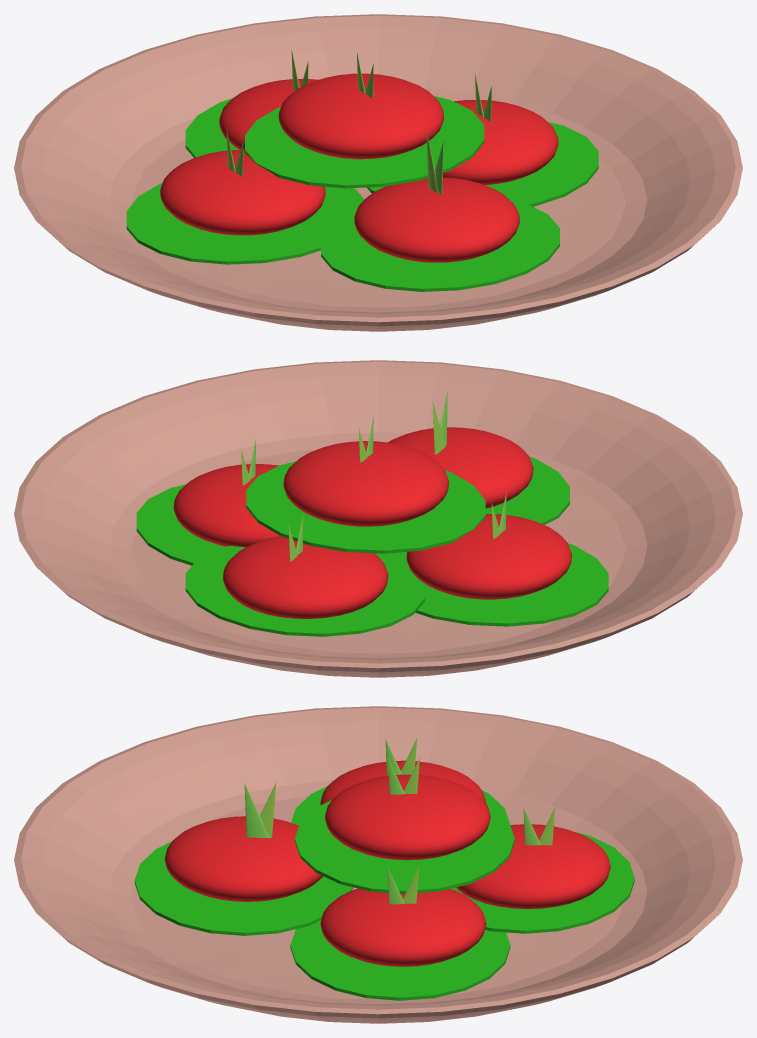
The model's file is kue kura kura.fbx.
3 renders of one model, top to bottom at view 1: azimuth 30°, elevation 25°; view 2: azimuth 150°, elevation 25°; view 3: azimuth 270°, elevation 25°, orthographic.
Parts seen in each view (by area): view 1: Cylinder, Sphere.004, Sphere.003, Cylinder.004, Sphere.002, Cylinder.005, Cylinder.003, Sphere.001, Cylinder.002, Sphere, Cylinder.001; view 2: Cylinder, Sphere.004, Sphere, Sphere.002, Cylinder.005, Cylinder.001, Cylinder.003, Sphere.003, Sphere.001, Cylinder.002, Cylinder.004; view 3: Cylinder, Sphere.004, Sphere.001, Sphere.003, Cylinder.005, Cylinder.002, Cylinder.004, Sphere, Cylinder.001, Sphere.002, Cylinder.003, Cone.006.
Boxes of the visible parts, x1,y1,x2,y2 form: Cylinder: (14, 14, 742, 331); Sphere.004: (278, 73, 444, 159); Sphere.003: (354, 177, 519, 262); Cylinder.004: (321, 199, 559, 291); Sphere.002: (160, 150, 325, 235); Cylinder.005: (245, 96, 484, 188); Cylinder.003: (126, 183, 364, 264); Sphere.001: (443, 100, 558, 184); Cylinder.002: (367, 122, 598, 206); Sphere: (219, 79, 318, 149); Cylinder.001: (185, 98, 239, 157); Cylinder: (14, 360, 742, 677); Sphere.004: (283, 441, 448, 526); Sphere: (223, 536, 388, 618); Sphere.002: (406, 514, 571, 599); Cylinder.005: (246, 461, 485, 553); Cylinder.001: (185, 545, 424, 636); Cylinder.003: (386, 543, 608, 626); Sphere.003: (388, 427, 533, 508); Sphere.001: (173, 464, 280, 547); Cylinder.002: (136, 484, 225, 565); Cylinder.004: (485, 457, 569, 524); Cylinder: (14, 706, 742, 1023); Sphere.004: (325, 774, 490, 860); Sphere.001: (320, 888, 486, 966); Sphere.003: (164, 816, 323, 901); Cylinder.005: (295, 800, 514, 894); Cylinder.002: (290, 920, 510, 1000); Cylinder.004: (134, 841, 352, 935); Sphere: (455, 824, 610, 908); Cylinder.001: (450, 832, 634, 933); Sphere.002: (320, 760, 486, 804); Cylinder.003: (291, 786, 509, 825); Cone.006: (244, 784, 269, 837).
Bounding box in the file's own units: 231 × 54.94 × 231.
